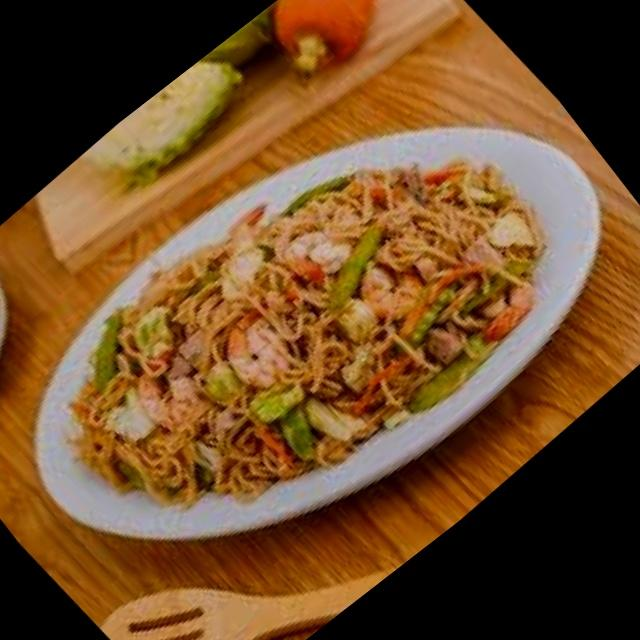pancit bihon: (74, 159, 542, 494)
